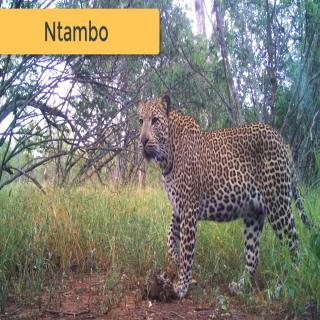Leopard: (130, 76, 319, 297)
